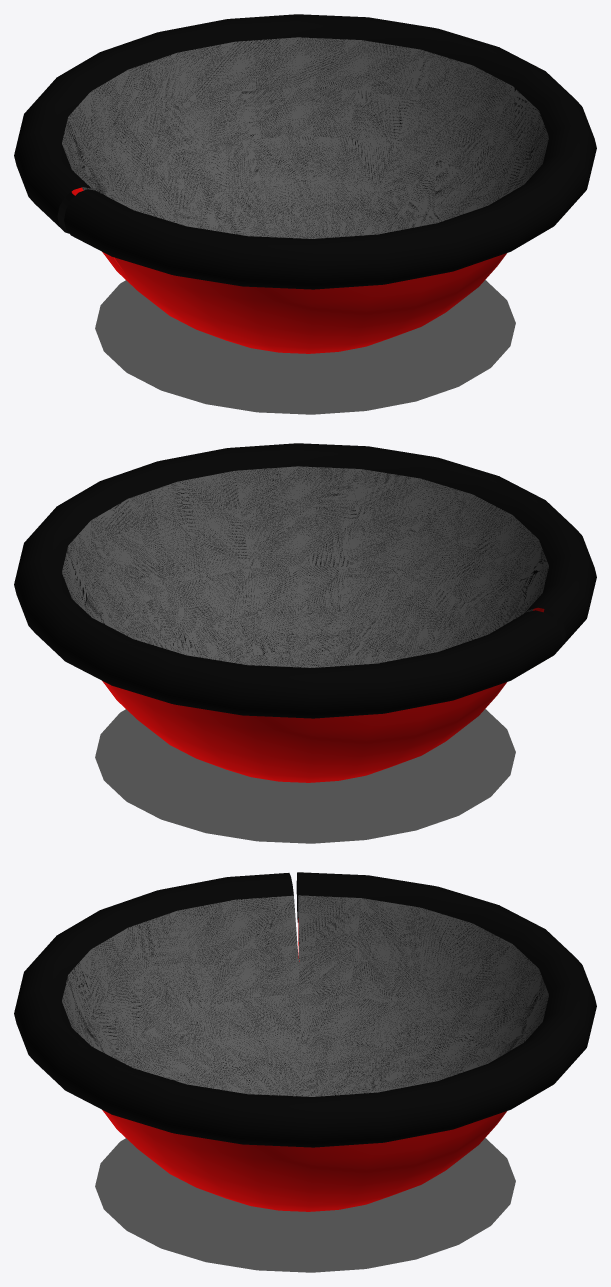
Rendered from bowl.dae.
The picture shows the model from 3 angles, top to bottom: view 1: azimuth 30°, elevation 25°; view 2: azimuth 150°, elevation 25°; view 3: azimuth 270°, elevation 25°; orthographic projection.
Parts seen in each view (by area): view 1: SketchUp (×4); view 2: SketchUp (×4); view 3: SketchUp (×4).
Part boxes in pixels (x1,y1,x2,y2): SketchUp (×4): (14,14,596,414); SketchUp (×4): (14,443,596,843); SketchUp (×4): (14,872,596,1272).
Bounding box in the file's own units: 61.43 × 61.43 × 22.89.
